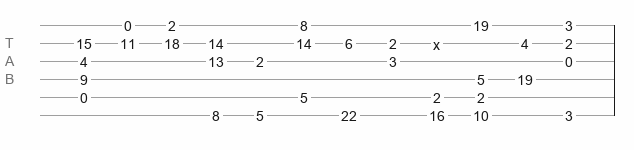0: (80, 90, 88, 100), (124, 18, 132, 28), (565, 54, 573, 64)
10: (473, 108, 489, 118)
11: (120, 36, 136, 46)
13: (208, 54, 224, 64)
14: (208, 36, 224, 46), (296, 36, 312, 46)
15: (76, 36, 92, 46)
16: (429, 108, 445, 118)
18: (164, 36, 180, 46)
19: (473, 18, 489, 28), (517, 72, 533, 82)
2: (168, 18, 176, 28), (256, 54, 264, 64), (389, 36, 397, 46), (433, 90, 441, 100), (477, 90, 485, 100), (565, 36, 573, 46)
22: (341, 108, 357, 118)
3: (389, 54, 397, 64), (565, 18, 573, 28), (565, 108, 573, 118)
4: (80, 54, 88, 64), (521, 36, 529, 46)
5: (256, 108, 264, 118), (300, 90, 308, 100), (477, 72, 485, 82)
6: (345, 36, 353, 46)
8: (212, 108, 220, 118), (300, 18, 308, 28)
9: (80, 72, 88, 82)
x: (433, 37, 440, 45)
